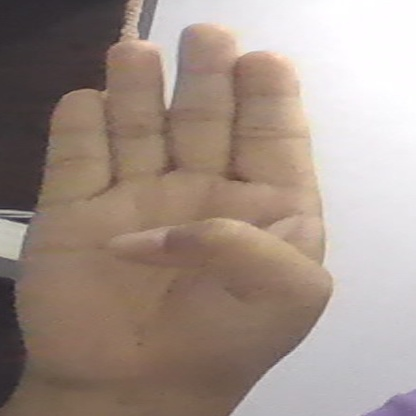B: (14, 26, 333, 401)
